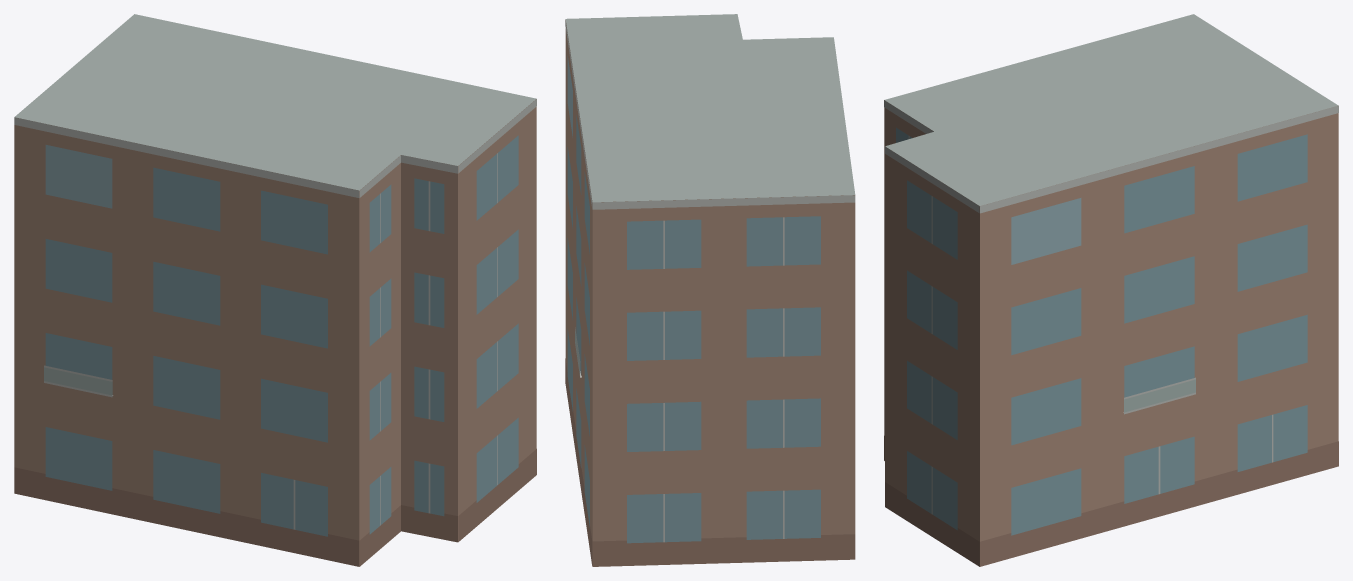
The model's file is survey-upis-32498372.glb.
3 views of the same model, side by side, from view 1: azimuth 30°, elevation 25°; view 2: azimuth 150°, elevation 25°; view 3: azimuth 270°, elevation 25° (orthographic). The views are drawn at different scales.
Parts seen in each view (by area): view 1: survey-upis-32498372.tmp; view 2: survey-upis-32498372.tmp; view 3: survey-upis-32498372.tmp.
Part boxes in pixels (x1=…): survey-upis-32498372.tmp: x1=14, y1=14, x2=536, y2=566; survey-upis-32498372.tmp: x1=565, y1=14, x2=855, y2=566; survey-upis-32498372.tmp: x1=884, y1=14, x2=1338, y2=566.
Size of the model in its own units: 13.6 by 11.9 by 13.6.
